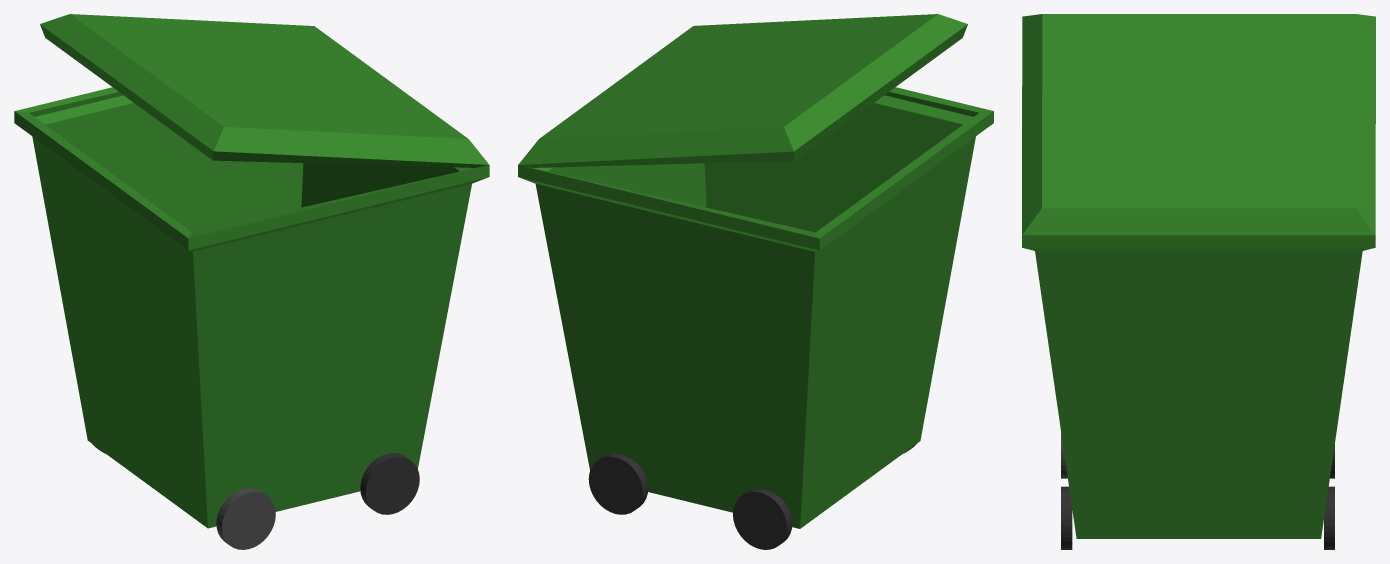
Rendered from dustbin.fbx.
The picture shows the model from 3 angles, left to right: view 1: azimuth 30°, elevation 25°; view 2: azimuth 150°, elevation 25°; view 3: azimuth 270°, elevation 25°; orthographic projection.
Visible parts, largest first — view 1: Cube, Circle.002, Circle.003; view 2: Cube, Circle.001, Circle; view 3: Cube, Circle.002, Circle.
Boxes of the visible parts, x1,y1,x2,y2 form: Cube: (14, 14, 489, 528); Circle.002: (360, 453, 419, 514); Circle.003: (216, 488, 275, 549); Cube: (518, 14, 993, 528); Circle.001: (733, 488, 792, 549); Circle: (588, 453, 648, 514); Cube: (1022, 14, 1375, 538); Circle.002: (1061, 486, 1072, 549); Circle: (1324, 486, 1334, 549).
Size of the model in its own units: 210 by 291 by 210.
